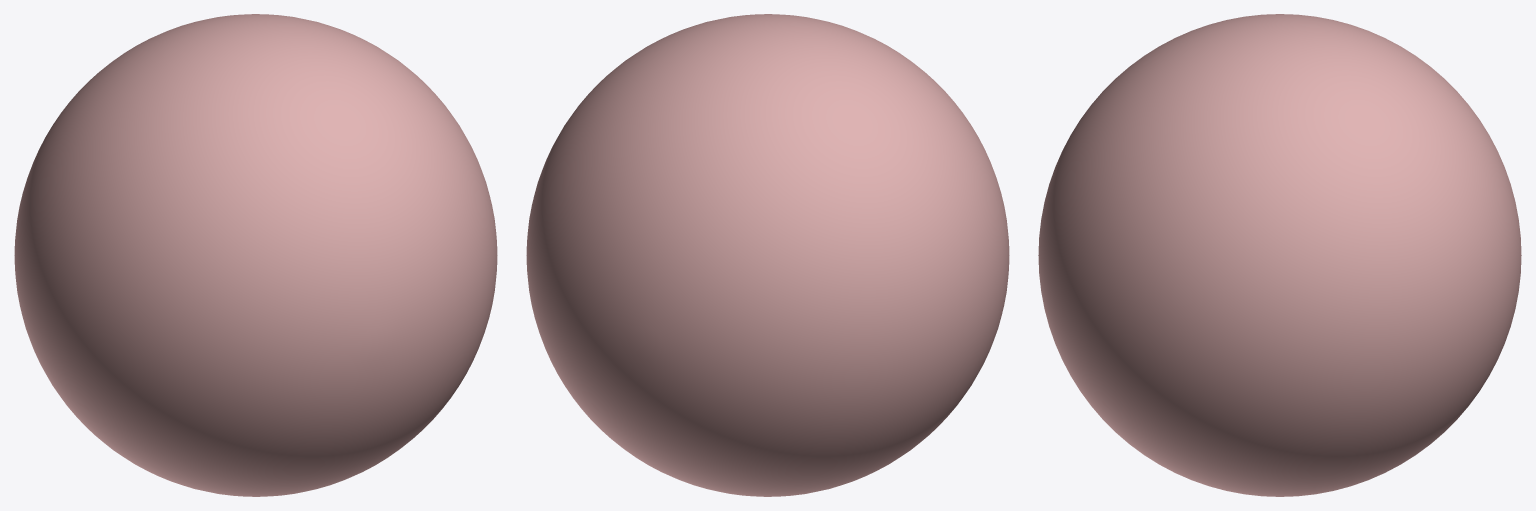
File: gan_sphere.glb
3 renders of one model, left to right at view 1: azimuth 30°, elevation 25°; view 2: azimuth 150°, elevation 25°; view 3: azimuth 270°, elevation 25°, orthographic.
Size of the model in its own units: 2.02 by 2.02 by 2.02.
